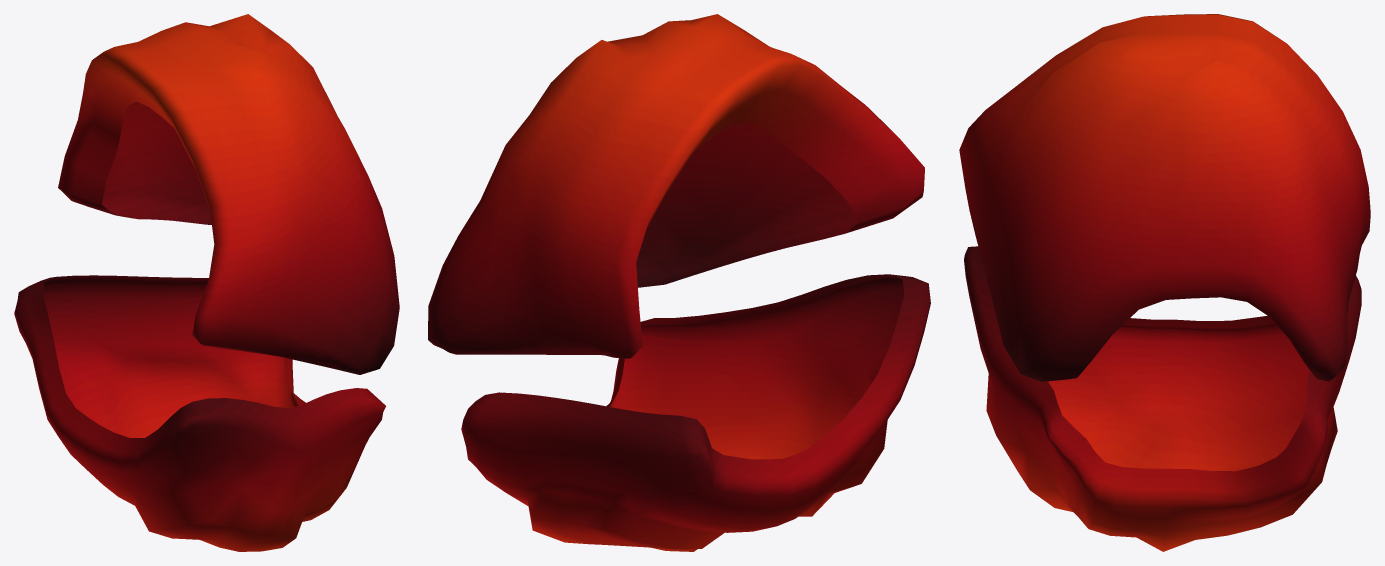
The model's file is Rock Left Arm.fbx.
The picture shows the model from 3 angles, left to right: view 1: azimuth 30°, elevation 25°; view 2: azimuth 150°, elevation 25°; view 3: azimuth 270°, elevation 25°; orthographic projection. The views are drawn at different scales.
Parts seen in each view (by area): view 1: Bicep_Izquierdo, Tricep_Izquierdo; view 2: Bicep_Izquierdo, Tricep_Izquierdo; view 3: Bicep_Izquierdo, Tricep_Izquierdo.
Boxes of the visible parts, x1=… form: Bicep_Izquierdo: x1=58, y1=14, x2=399, y2=374; Tricep_Izquierdo: x1=14, y1=275, x2=385, y2=551; Bicep_Izquierdo: x1=428, y1=14, x2=924, y2=358; Tricep_Izquierdo: x1=461, y1=274, x2=930, y2=551; Bicep_Izquierdo: x1=959, y1=14, x2=1370, y2=381; Tricep_Izquierdo: x1=964, y1=246, x2=1361, y2=551.
Bounding box in the file's own units: 0.4728 × 0.7178 × 0.5467.
